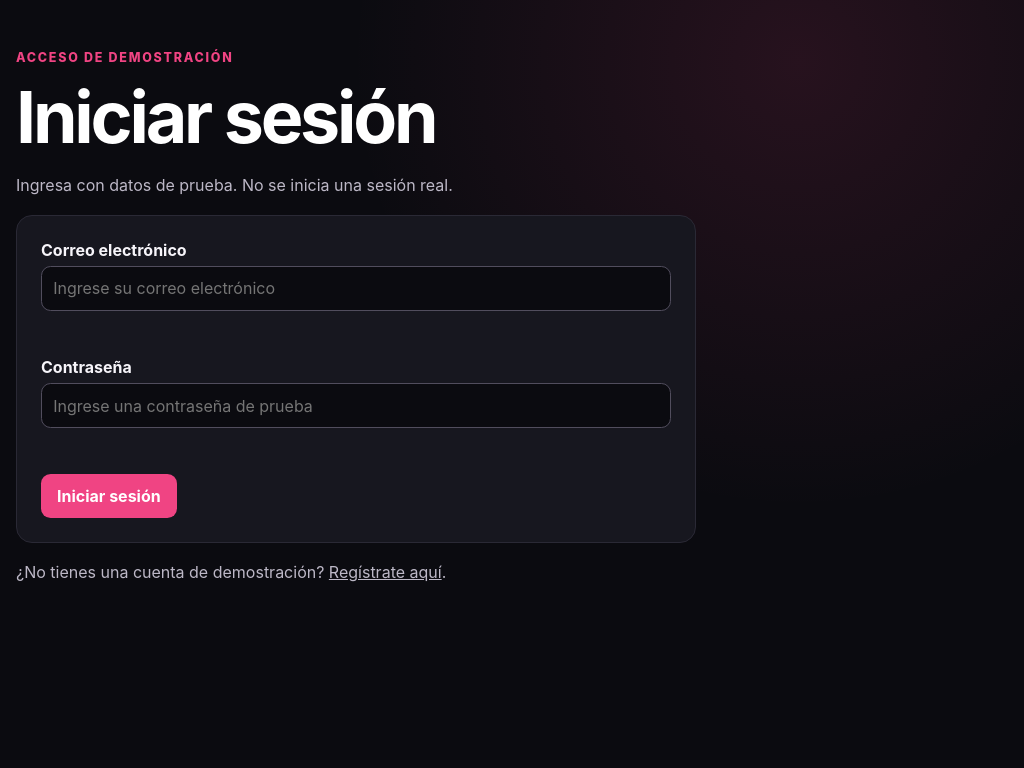
InicioSesionPage › rechaza un correo con dominio no permitido
The width and height of the screenshot is (1024, 768).
Type "usuario@hotmail.com" into the field labelled "Correo electrónico" at (356, 288), box [41, 266, 671, 311]
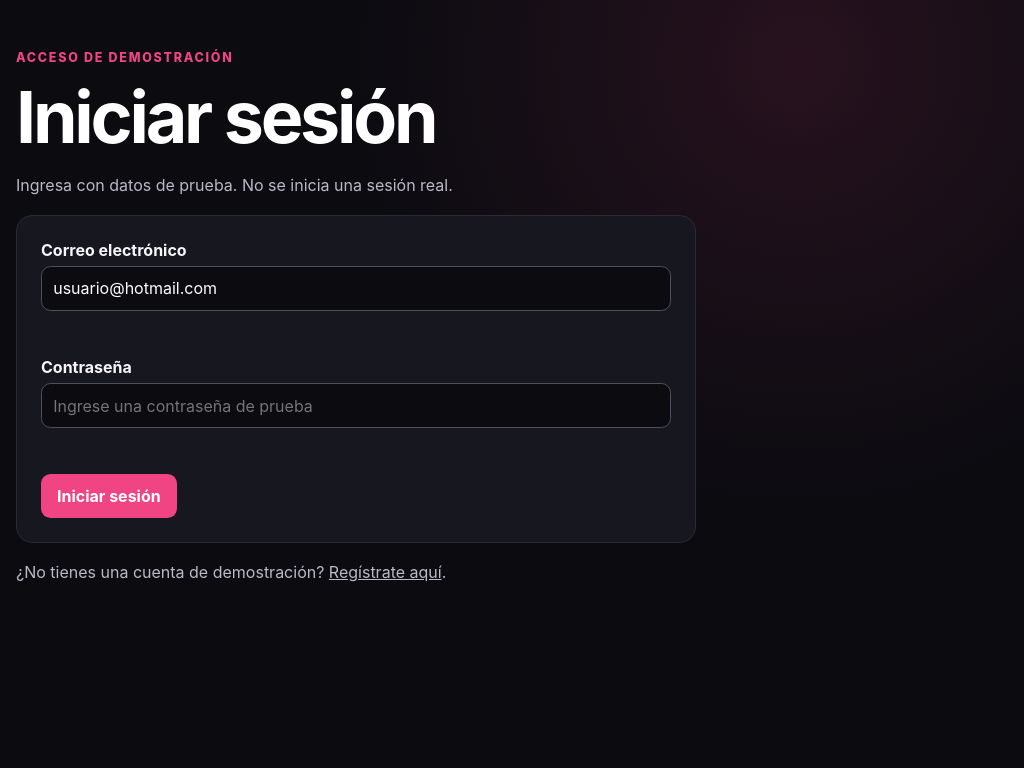
Click the button "Iniciar sesión" at (109, 496), box [41, 474, 177, 518]
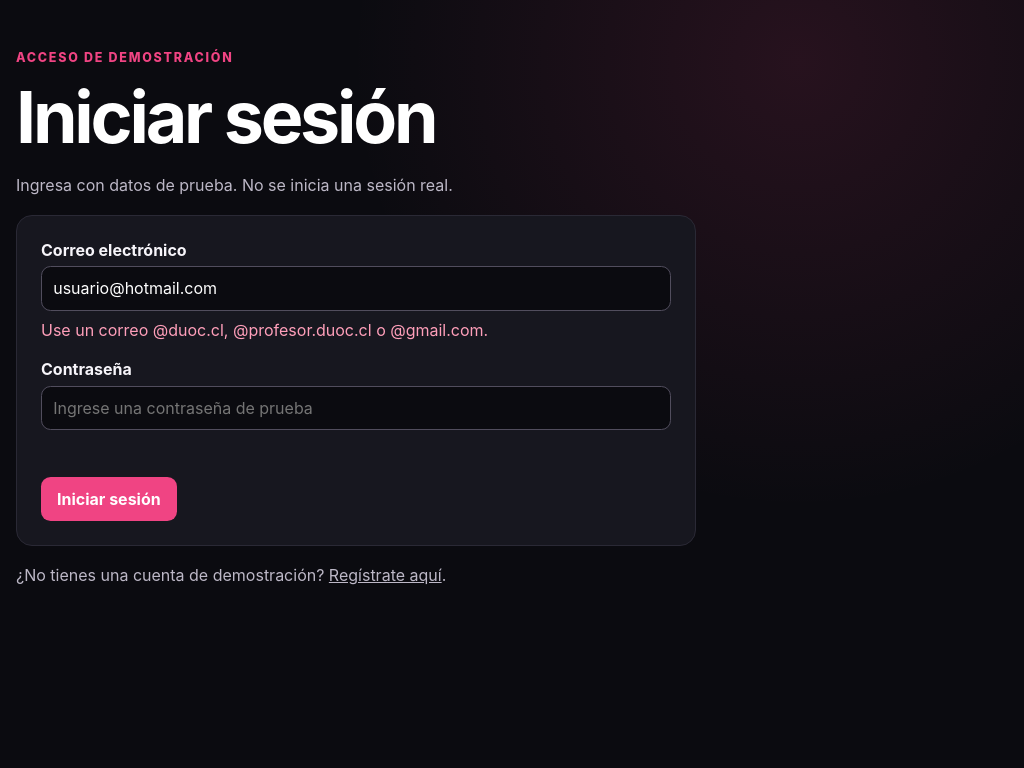
Now the text "Use un correo @duoc.cl, @profesor.duoc.cl o @gmail.com." is shown, box [41, 320, 488, 340]
